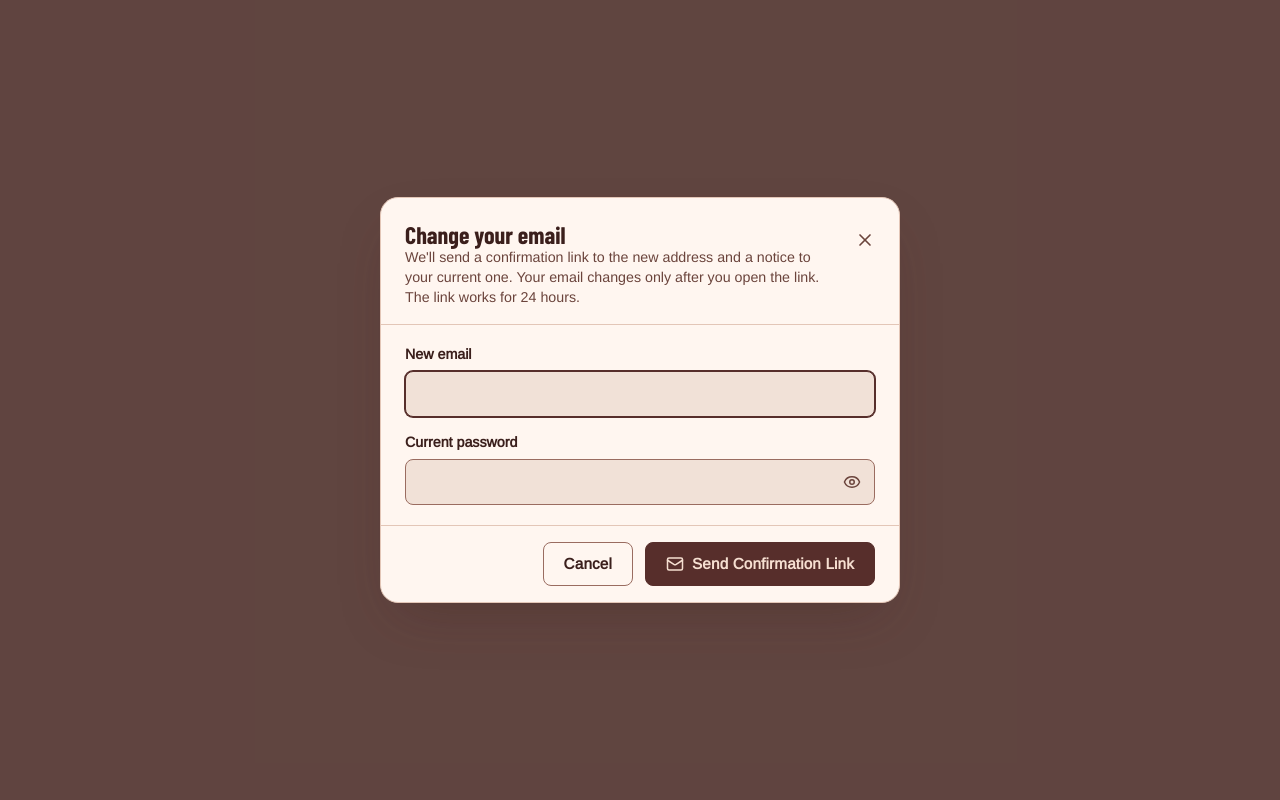
it: P2 checks before sending (OR-3) › puts the cursor in Current password when only the password is missing
Type "carmen.new@example.ph" into the field labelled "New email" at (640, 394), box [406,372,874,416]
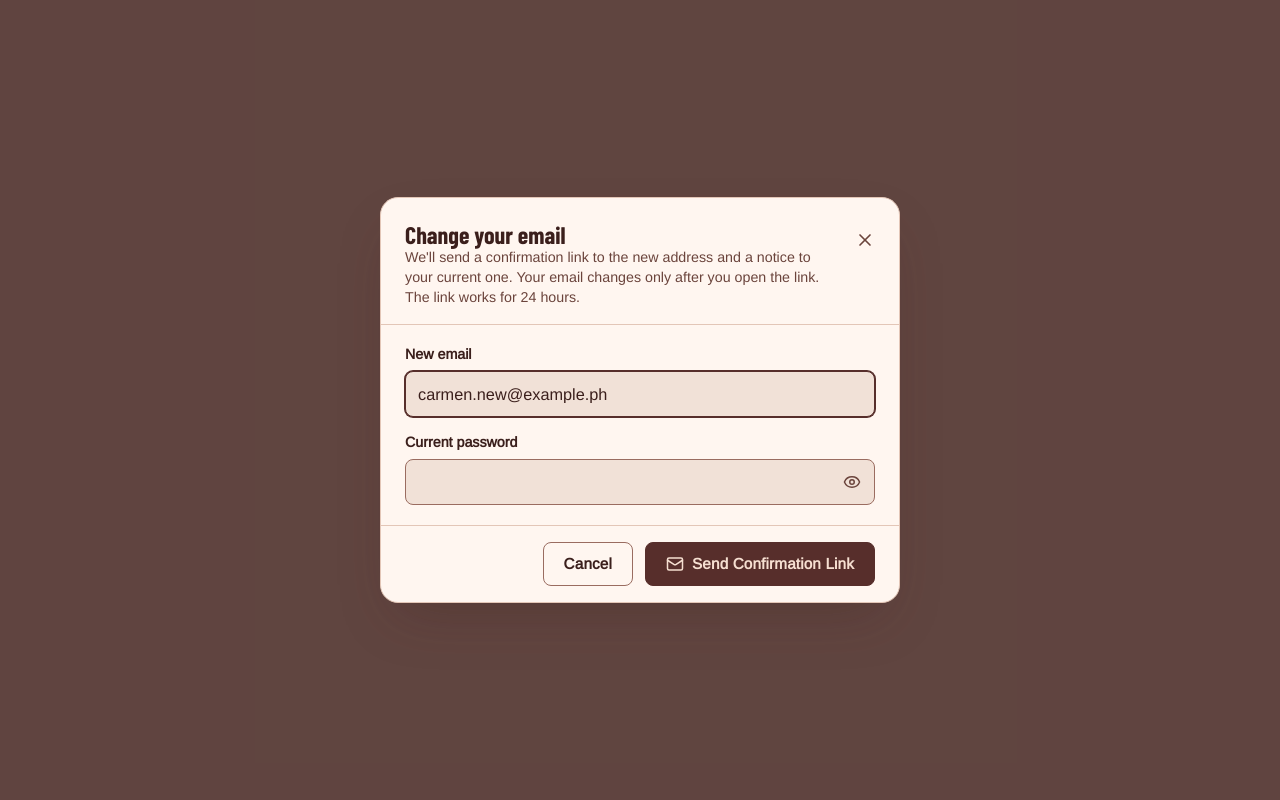
Click the button "Send Confirmation Link" at (760, 564), box [645,542,875,586]
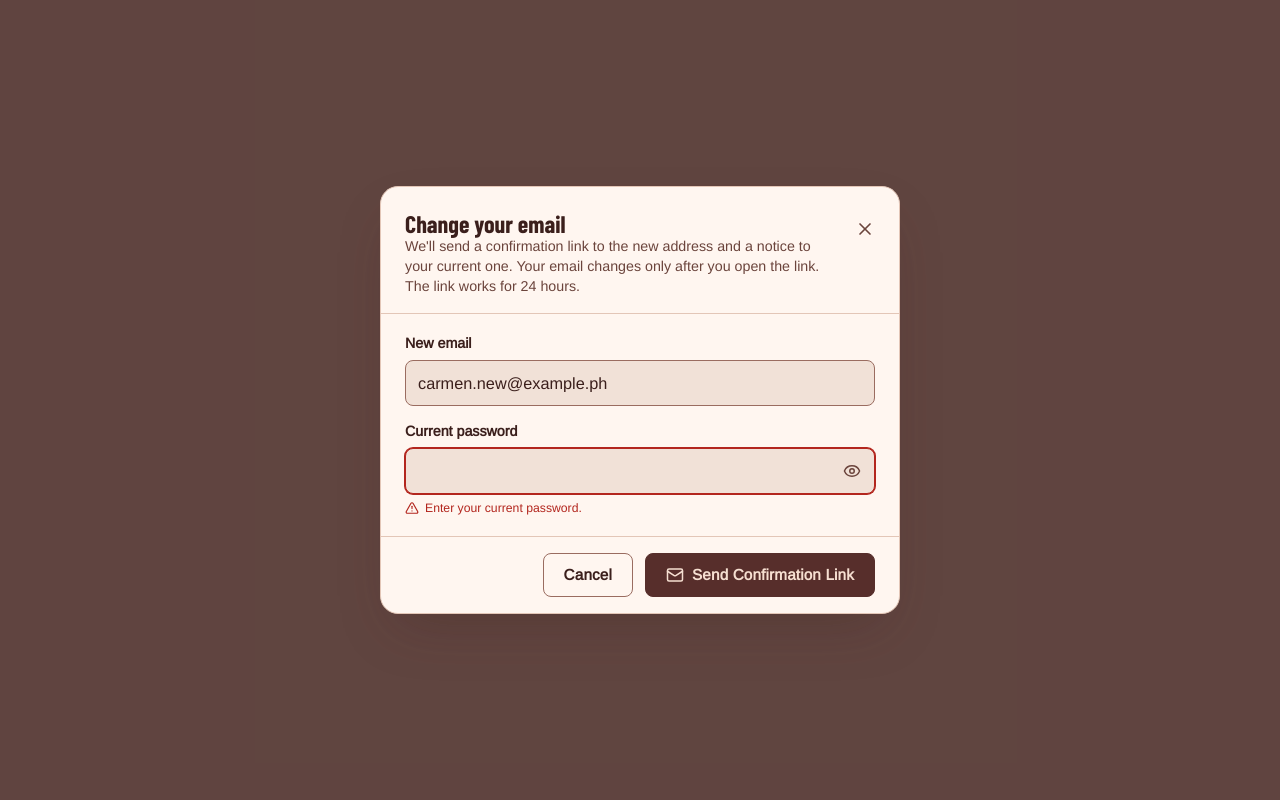
Now the text "Enter your current password." is shown, box [405,501,582,515]
